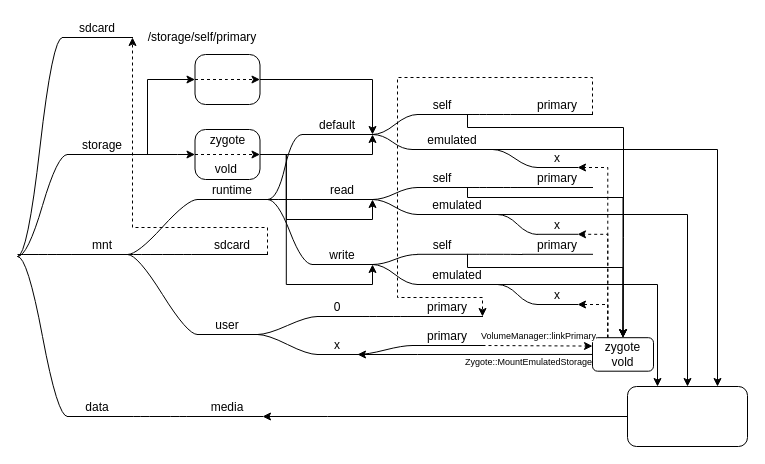
Some shapes in this 765 by 464 pixel diagram are drawn without their labels. Here are the shapes that lost their labels. From the top down, the box of each, then its label:
(194, 54, 260, 104): init
(626, 386, 748, 446): vold sdcard
